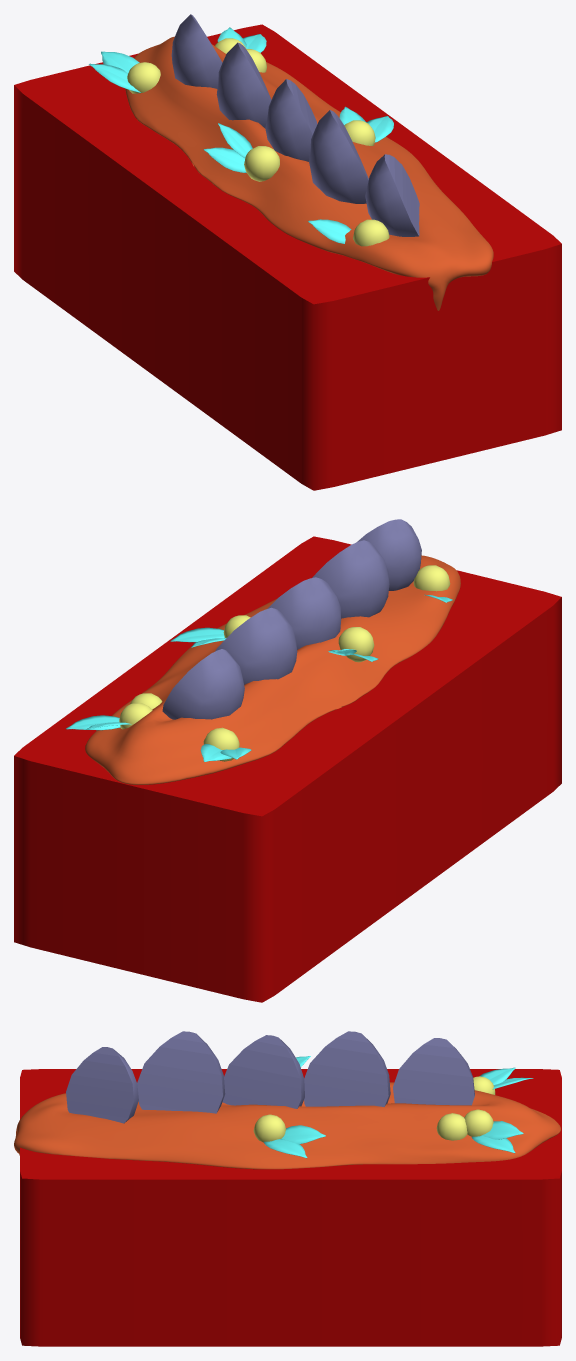
File: Cake_09.fbx
3 renders of one model, top to bottom at view 1: azimuth 30°, elevation 25°; view 2: azimuth 150°, elevation 25°; view 3: azimuth 270°, elevation 25°, orthographic. The views are drawn at different scales.
Parts seen in each view (by area): view 1: Cake_body009, Group13087, Cake_berry008, Cake_berry007, Cake_berry011, Cake_berry009, Cake_berry010, Box014, Box015, Box011, Plane018, Plane012 (+2 smaller); view 2: Cake_body009, Group13087, Cake_berry010, Cake_berry011, Cake_berry008, Cake_berry009, Cake_berry007, Box014, Box011, Box015; view 3: Cake_body009, Group13087, Cake_berry008, Cake_berry011, Cake_berry009, Cake_berry010, Cake_berry007, Box013, Box012, Box010, Plane017, Plane015 (+2 smaller).
Part boxes in pixels (left/top/right/bottom): Cake_body009: left=14, top=24, right=561, bottom=490; Group13087: left=125, top=36, right=493, bottom=310; Cake_berry008: left=309, top=110, right=368, bottom=203; Cake_berry007: left=365, top=154, right=419, bottom=236; Cake_berry011: left=216, top=42, right=271, bottom=128; Cake_berry009: left=265, top=79, right=317, bottom=161; Cake_berry010: left=171, top=14, right=222, bottom=88; Box014: left=244, top=146, right=279, bottom=181; Box015: left=127, top=62, right=160, bottom=93; Box011: left=353, top=219, right=389, bottom=246; Plane018: left=203, top=147, right=246, bottom=172; Plane012: left=308, top=219, right=351, bottom=243; Cake_body009: left=14, top=536, right=561, bottom=1002; Group13087: left=85, top=555, right=460, bottom=784; Cake_berry010: left=162, top=649, right=244, bottom=719; Cake_berry011: left=215, top=607, right=297, bottom=684; Cake_berry008: left=312, top=540, right=389, bottom=618; Cake_berry009: left=267, top=577, right=341, bottom=649; Cake_berry007: left=356, top=519, right=421, bottom=590; Box014: left=338, top=627, right=374, bottom=662; Box011: left=413, top=565, right=450, bottom=591; Box015: left=203, top=727, right=239, bottom=761; Cake_body009: left=20, top=1069, right=561, bottom=1346; Group13087: left=14, top=1082, right=560, bottom=1169; Cake_berry008: left=137, top=1031, right=225, bottom=1113; Cake_berry011: left=304, top=1031, right=390, bottom=1106; Cake_berry009: left=222, top=1035, right=304, bottom=1108; Cake_berry010: left=393, top=1038, right=474, bottom=1105; Cake_berry007: left=66, top=1047, right=138, bottom=1123; Box013: left=253, top=1114, right=285, bottom=1142; Box012: left=436, top=1113, right=467, bottom=1140; Box010: left=464, top=1109, right=493, bottom=1136; Plane017: left=281, top=1125, right=325, bottom=1144; Plane015: left=482, top=1121, right=523, bottom=1139.
Size of the model in its own units: 44.05 by 47.17 by 92.32.
